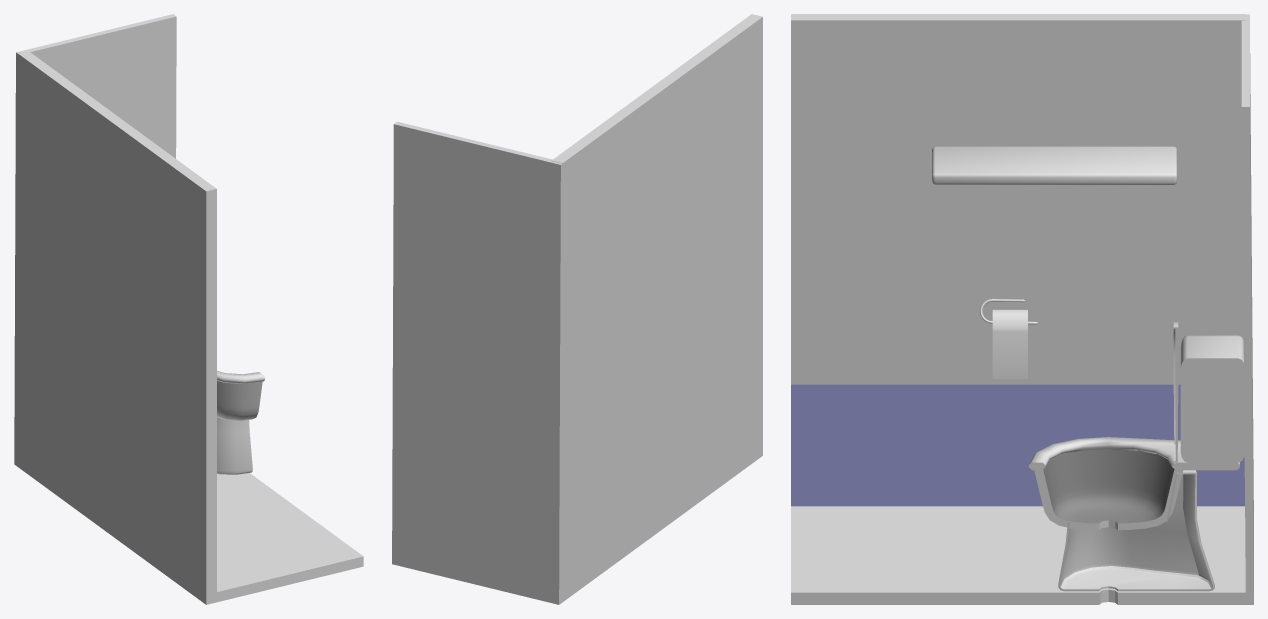
The model's file is Lavabo01_1.fbx.
3 views of the same model, side by side, from view 1: azimuth 30°, elevation 25°; view 2: azimuth 150°, elevation 25°; view 3: azimuth 270°, elevation 25° (orthographic). The views are drawn at different scales.
Parts seen in each view (by area): view 1: wall, wall2, floor, Cylinder.002, Cube.009, Cube.010; view 2: wall, wall2; view 3: wall, floor, Cylinder.002, Cube.009, Cube.006, Cube.008, wall2, Cube.010, Cylinder.003, Cube.007.
Part boxes in pixels (x1,y1,x2,y2): wall: (17, 51, 216, 604); wall2: (14, 14, 176, 466); floor: (217, 473, 363, 602); Cylinder.002: (217, 417, 252, 474); Cube.009: (217, 381, 262, 420); Cube.010: (217, 370, 264, 383); wall: (551, 14, 762, 601); wall2: (392, 121, 563, 604); wall: (791, 14, 1245, 506); floor: (791, 506, 1245, 604); Cylinder.002: (1058, 470, 1214, 591); Cube.009: (1033, 449, 1183, 530); Cube.006: (932, 146, 1176, 184); Cube.008: (1180, 335, 1244, 462); wall2: (1241, 14, 1253, 604); Cube.010: (1029, 437, 1239, 470); Cylinder.003: (992, 309, 1027, 378); Cube.007: (1173, 322, 1178, 462).
Bounding box in the file's own units: 51.08 × 128 × 108.
